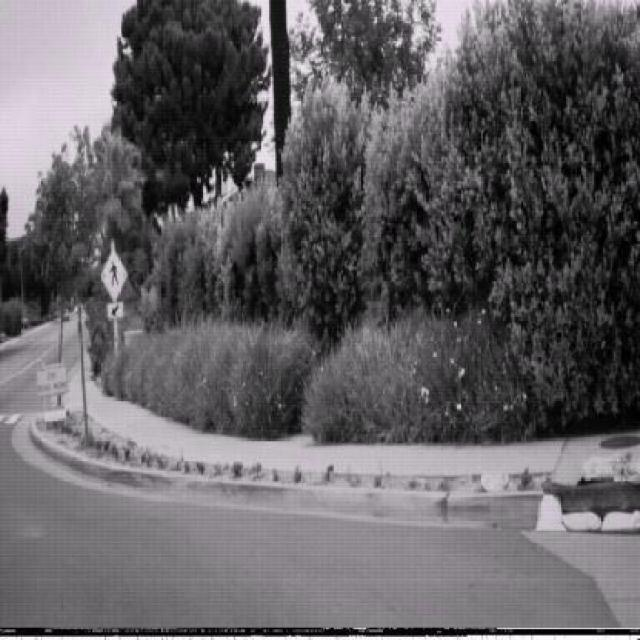pedestrianCrossing: (100, 245, 128, 302)
